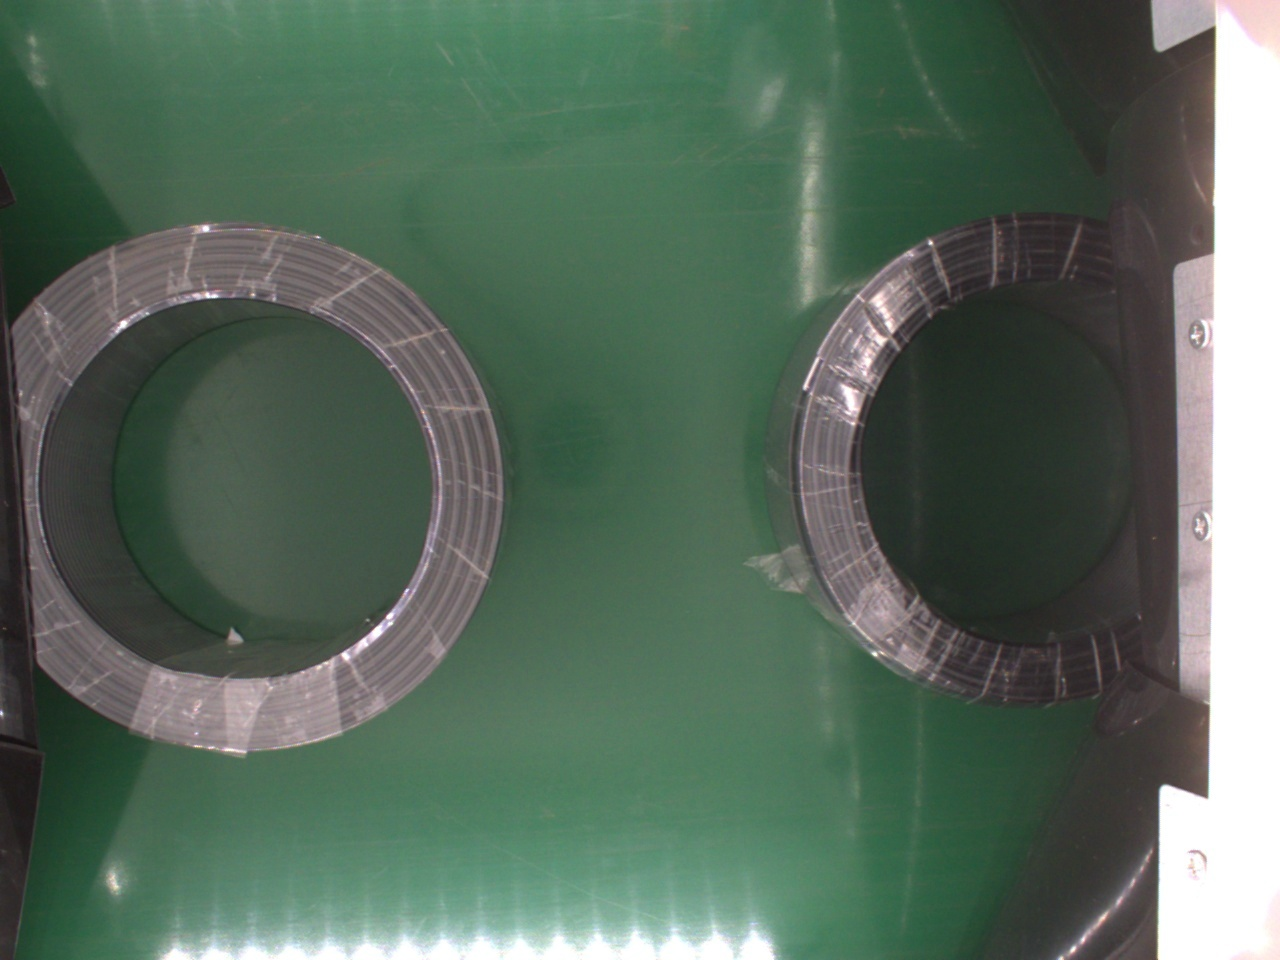black: (16, 220, 503, 754), (765, 213, 1153, 706)
